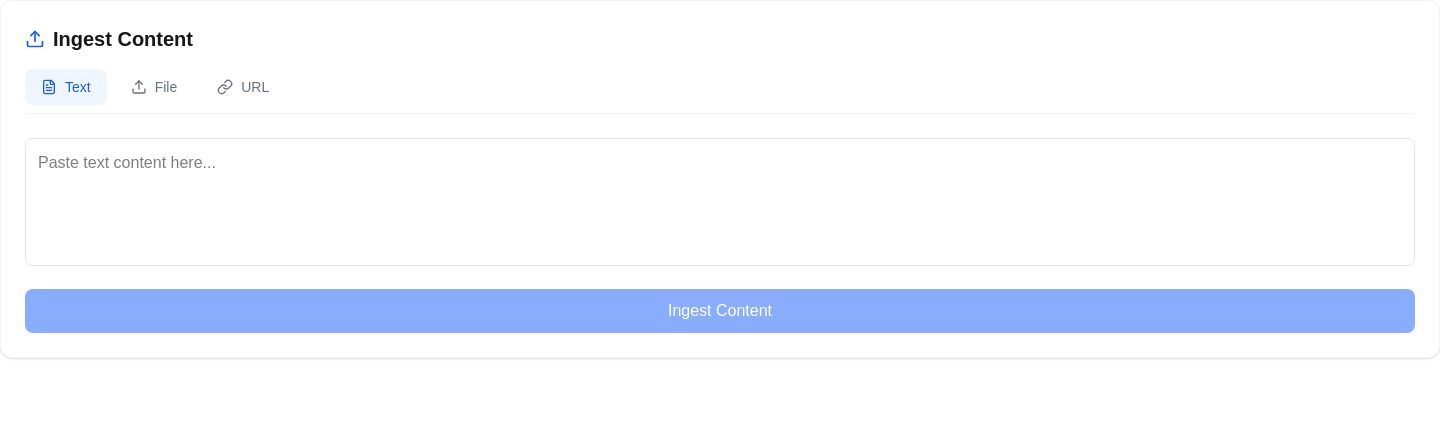
Test case: IngestForm › handles ingestion error
This screenshot has width=1440, height=436.
Type "Test content" into the text box with placeholder "Paste text content here..." at (720, 202), box [25,138,1415,266]
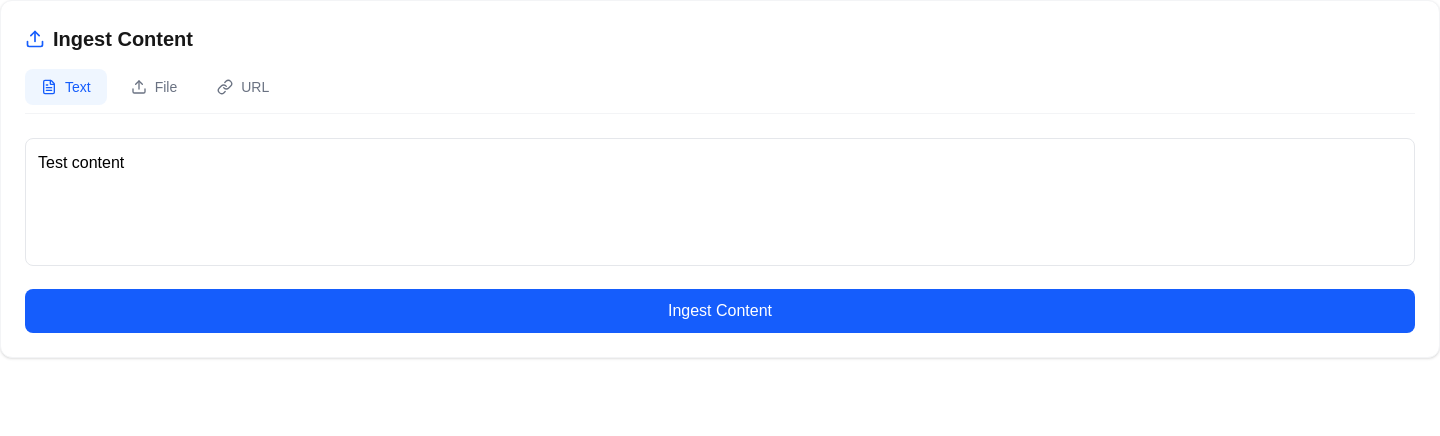
Click the button "Ingest Content" at (720, 311), box [25,289,1415,333]
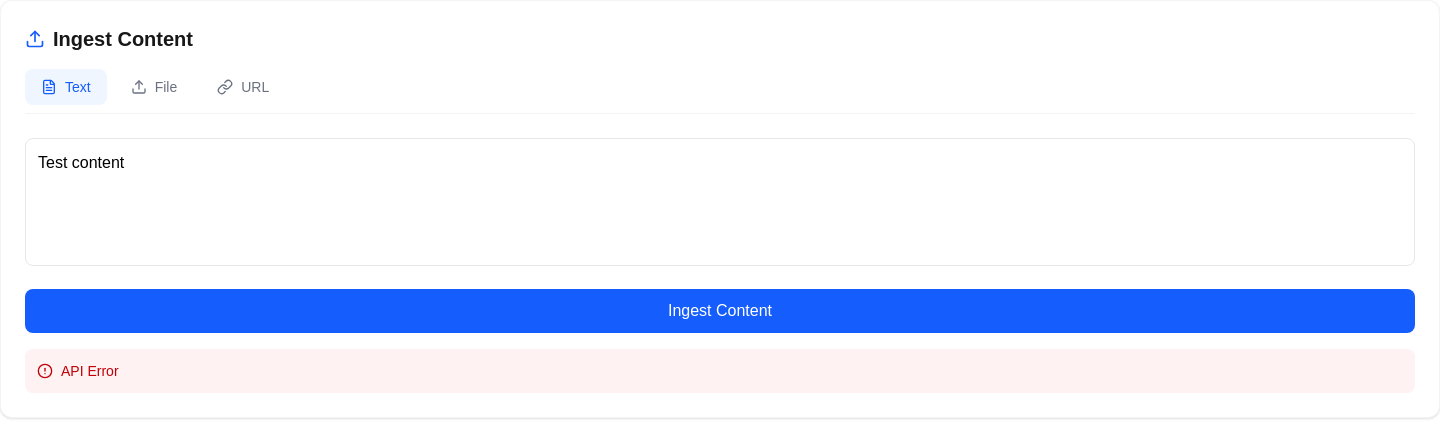
Now the text "API Error" is shown, box [25,349,1415,393]
